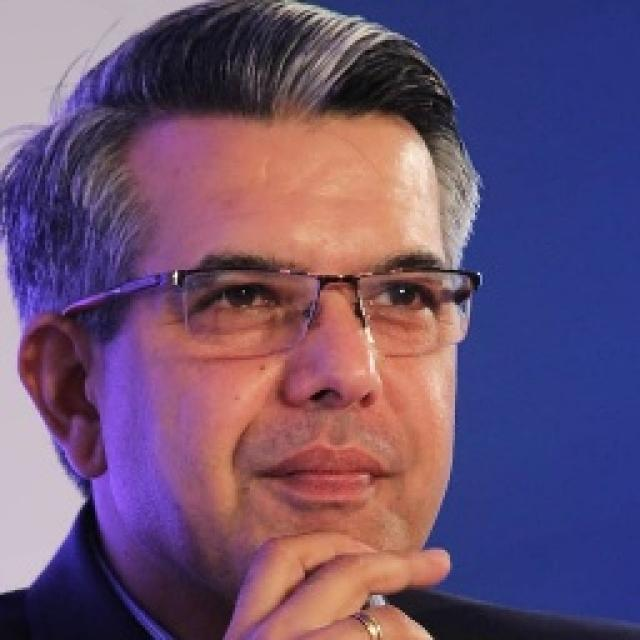glasses: (58, 242, 496, 366)
